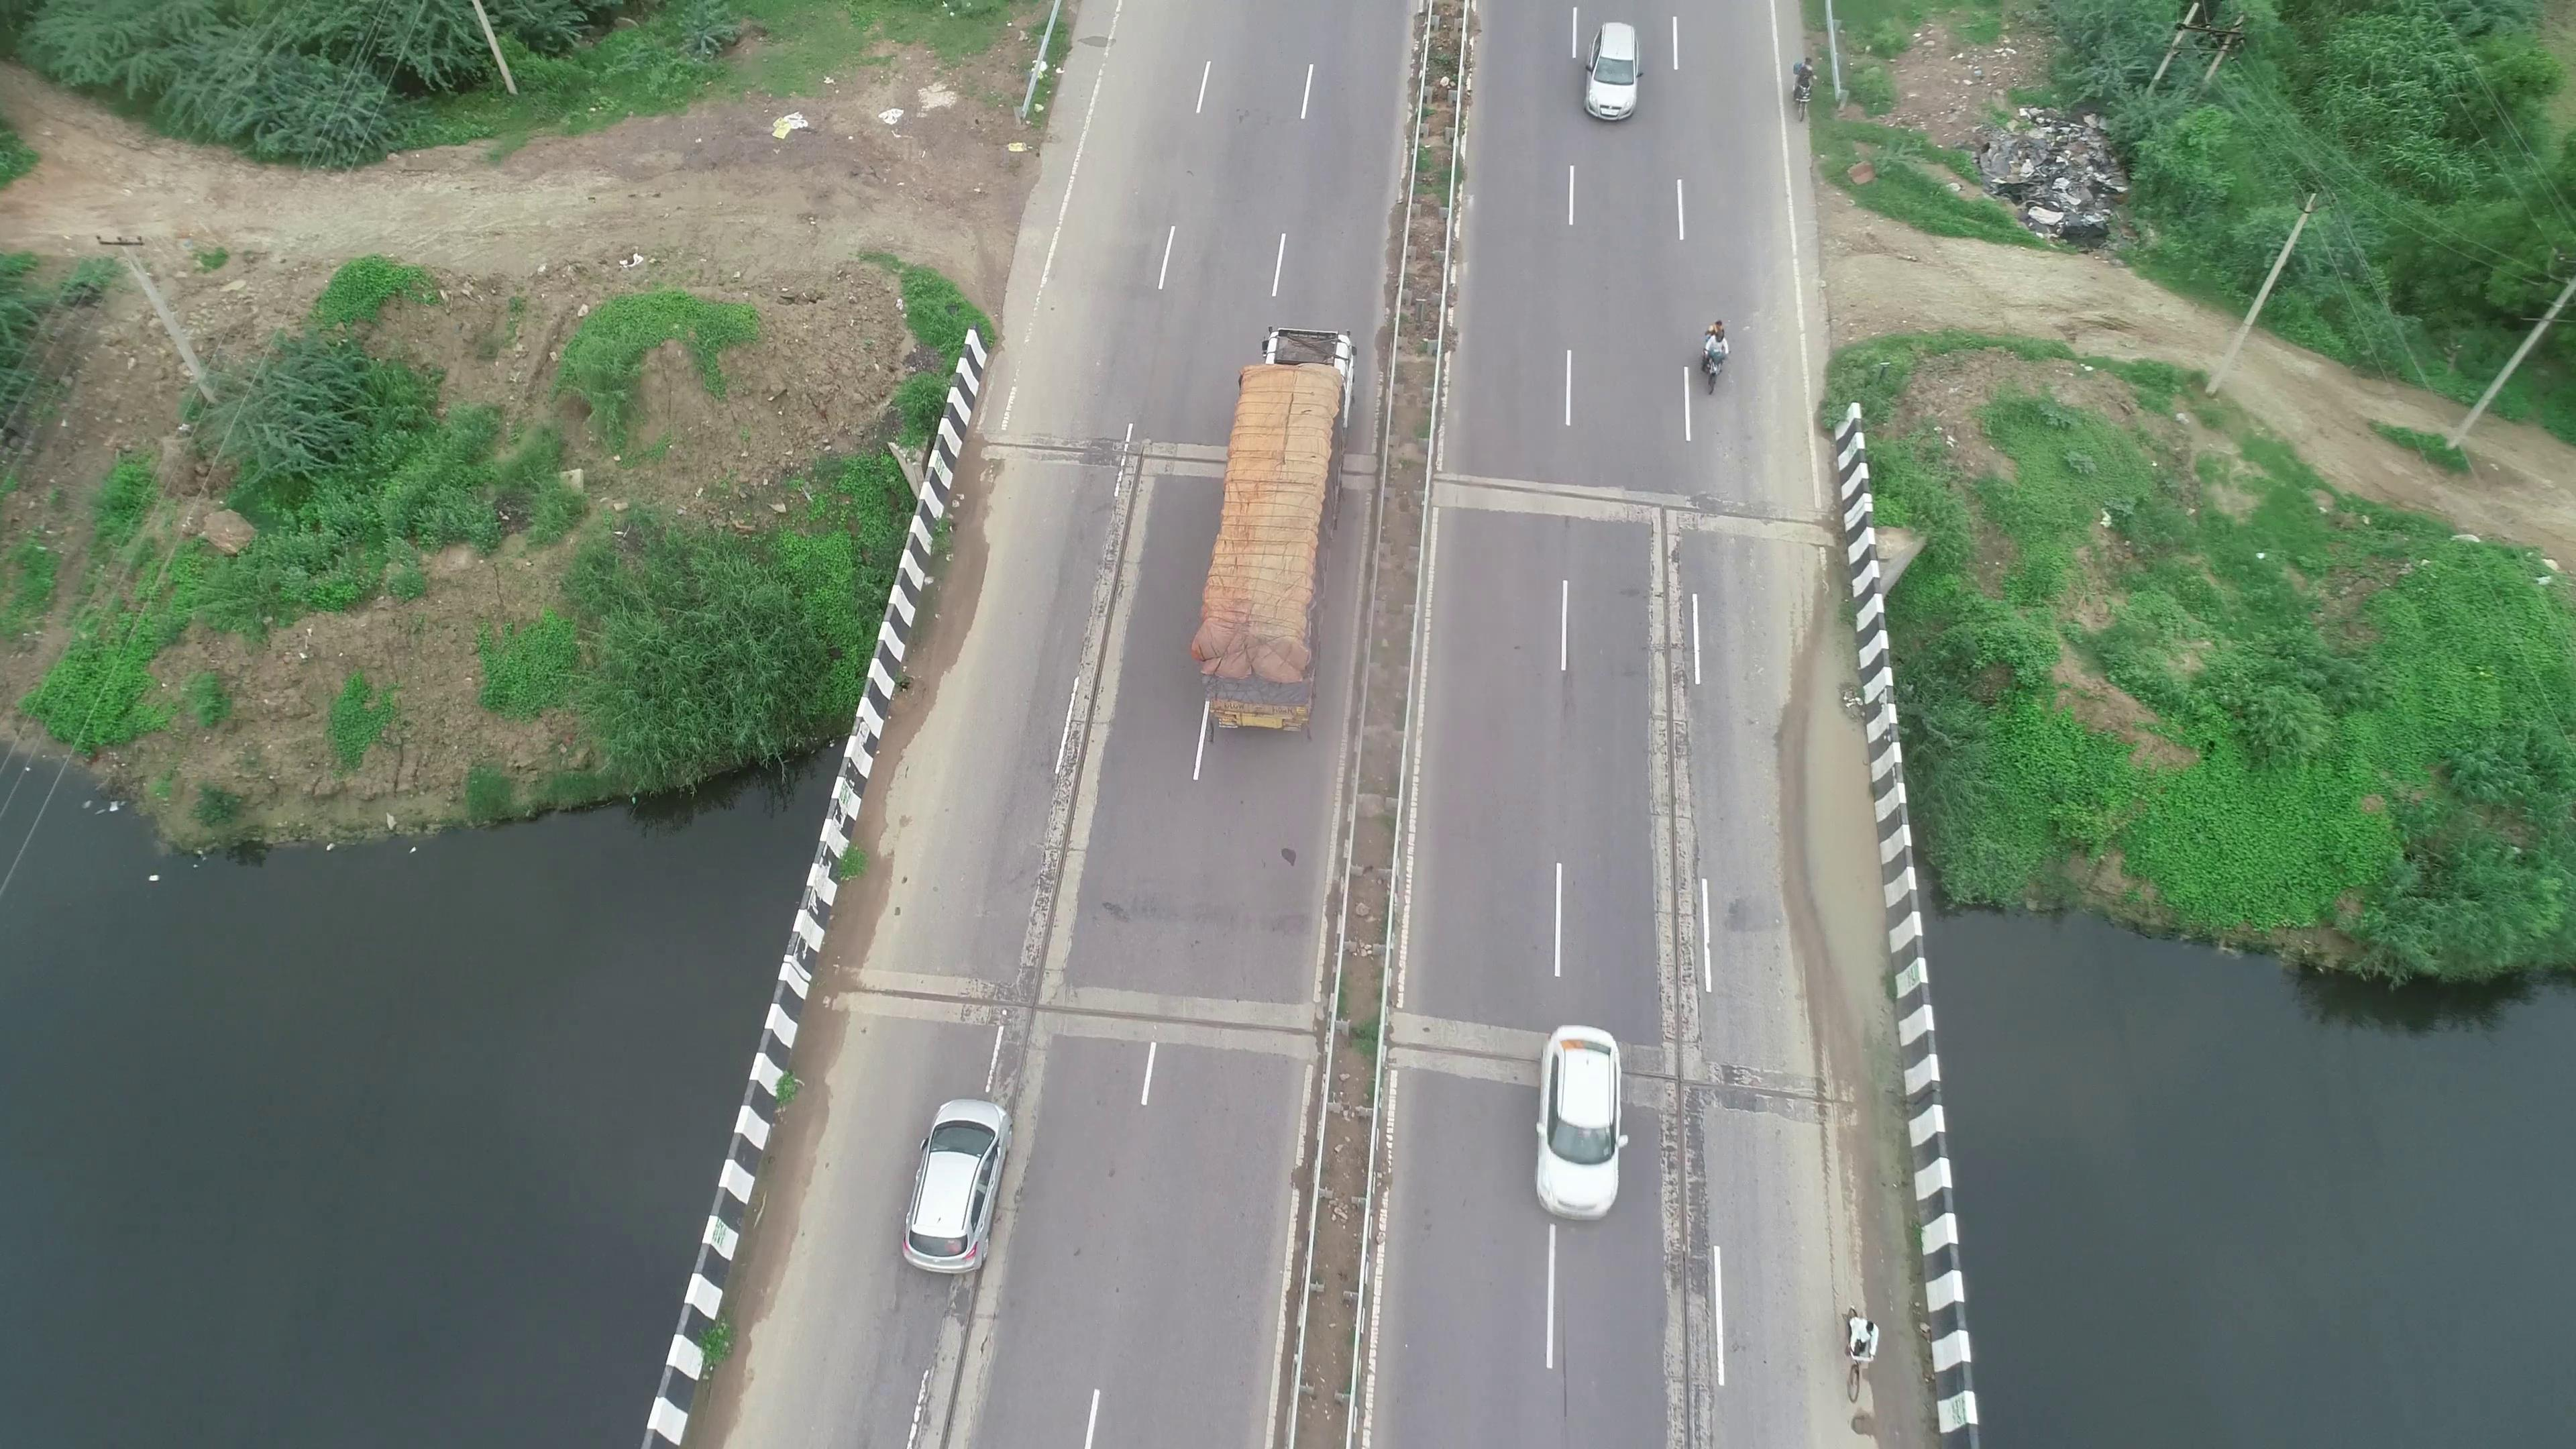Waterlogging: (1757, 609, 1879, 1042)
